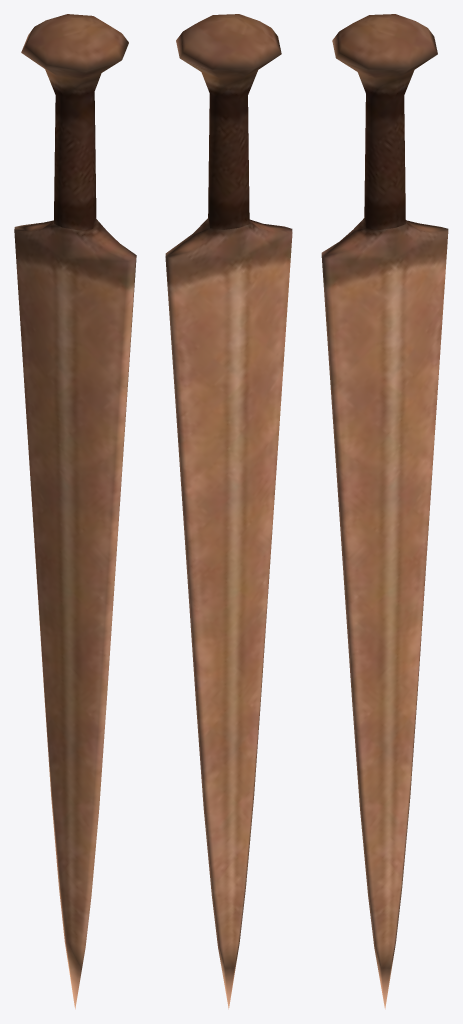
File: rider-weapon-slice-base.glb
The picture shows the model from 3 angles, left to right: view 1: azimuth 90°, elevation 25°; view 2: azimuth 150°, elevation 25°; view 3: azimuth 330°, elevation 25°; orthographic projection.
Bounding box in the file's own units: 0.0994 × 1.01 × 0.1127.
1 material, 1 textured.
